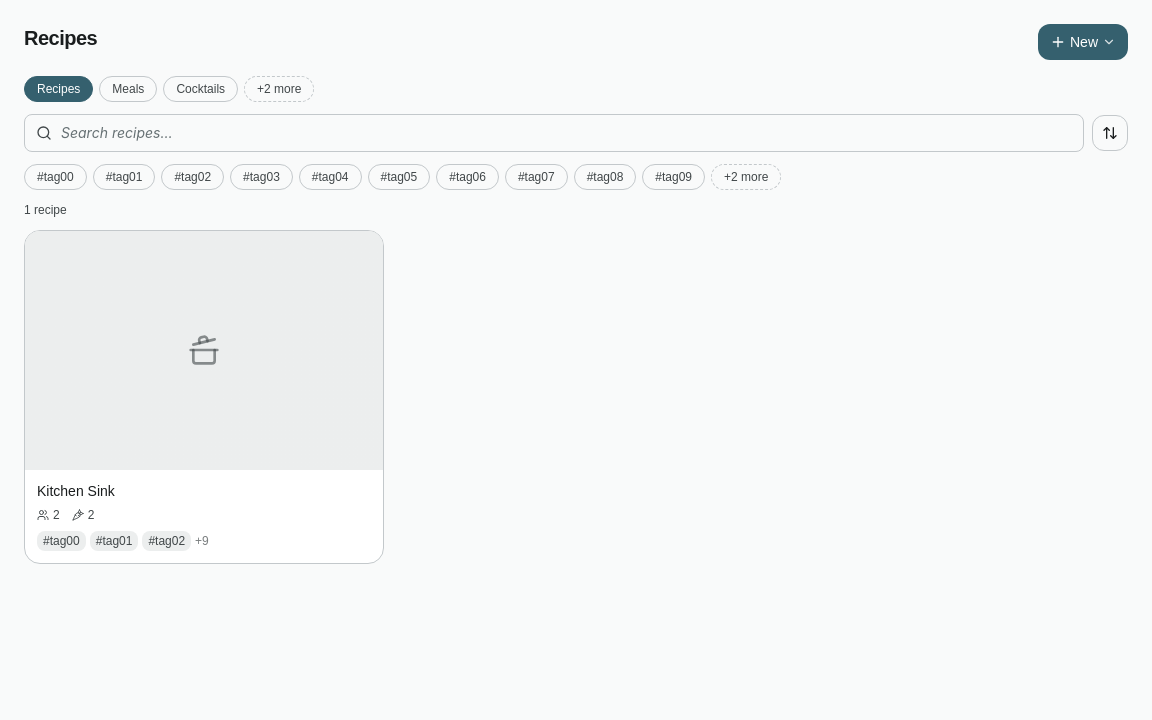
Scenario: RecipeListPage › caps the tag chips at 10 by default and expands on demand
Click the button with test id "recipe-tag-show-all" at point(746, 177), box [711,164,781,190]
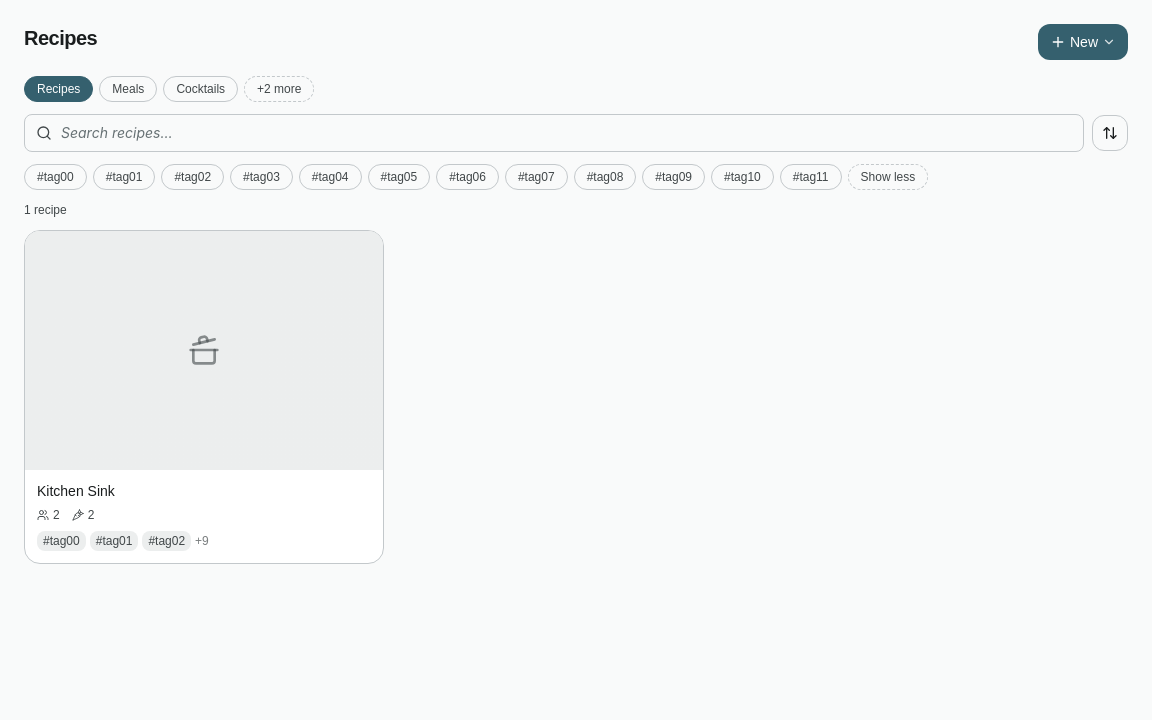
Expected: the button with test id "recipe-tag-show-all" is gone
Expected: the button with test id "recipe-tag-show-less" is shown, [848,164,928,190]
